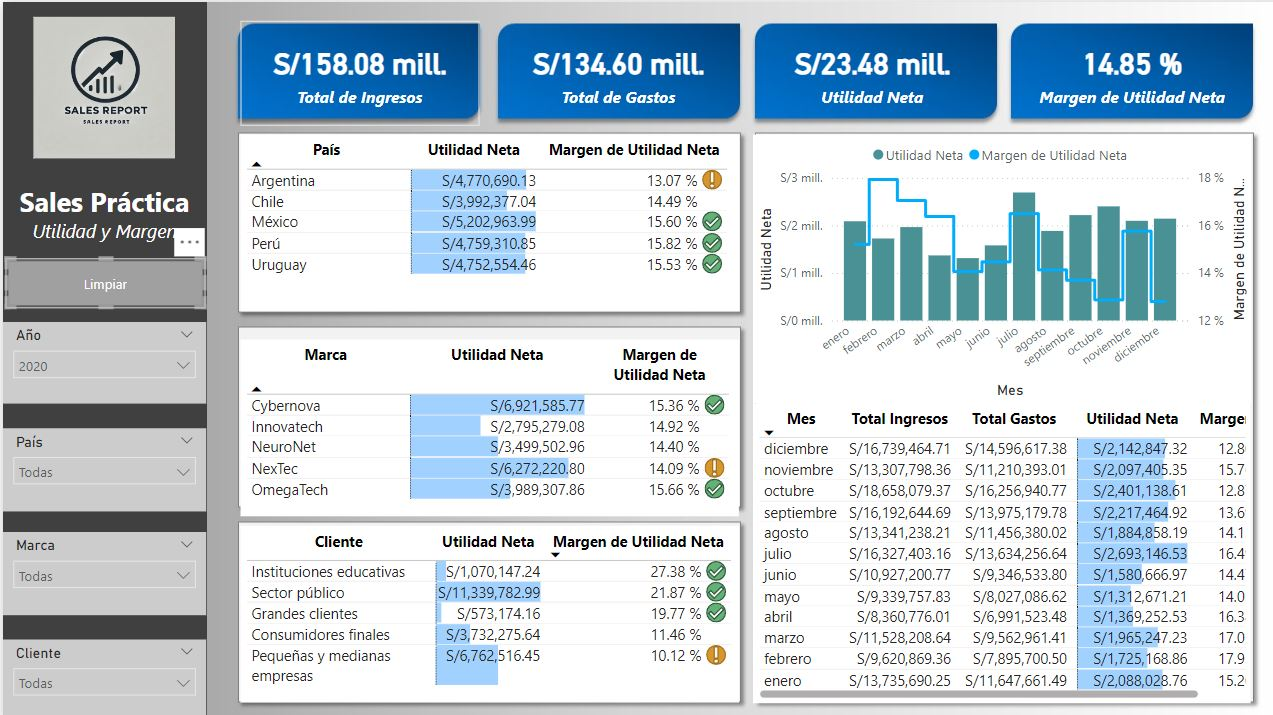

The page's visual inventory and layout, read from the dashboard file:
{"tool":"powerbi","page":{"name":"Página 1","canvas":[1280,720],"ordinal":0},"visuals":[{"type":"card","fields":{"Values":["_Medidas.Total de Ingresos"]},"box":[237.4,19.2,238.8,104.3],"z":0},{"type":"card","fields":{"Values":["_Medidas.Total de Gastos"]},"box":[496.7,19.2,238.8,104.3],"z":1000},{"type":"card","fields":{"Values":["_Medidas.Total de Beneficio"]},"box":[750.6,19.2,238.8,104.3],"z":2000},{"type":"card","fields":{"Values":["_Medidas.Margen de utilidad neta"]},"box":[1010,19.2,238.8,104.3],"z":3000},{"type":"tableEx","fields":{"Values":["Consolidado.DimPais.Pais","_Medidas.Utilidad Neta","_Medidas.Margen de Utilidad Neta"]},"box":[237.4,133.1,498.1,177],"z":4000},{"type":"tableEx","fields":{"Values":["Consolidado.DimMarca.Marca","_Medidas.Utilidad Neta","_Medidas.Margen de Utilidad Neta"]},"box":[237.4,337.6,498.1,177],"z":5000},{"type":"tableEx","fields":{"Values":["Consolidado.Cliente","_Medidas.Utilidad Neta","_Medidas.Margen de Utilidad Neta"]},"box":[237.4,524.2,498.1,177],"z":6000},{"type":"lineClusteredColumnComboChart","fields":{"Y":["_Medidas.Utilidad Neta"],"Category":["Consolidado.Fecha.Variación.Jerarquía de fechas.Mes"],"Y2":["_Medidas.Margen de Utilidad Neta"]},"box":[750,132.5,498.8,268.8],"z":7000},{"type":"tableEx","fields":{"Values":["Consolidado.Fecha.Variación.Jerarquía de fechas.Mes","_Medidas.Total de Ingresos","_Medidas.Total de Gastos","_Medidas.Utilidad Neta","_Medidas.Margen de Utilidad Neta"]},"box":[750,401.2,497.5,300],"z":8000},{"type":"image","box":[0,10,202.9,151.4],"z":9000},{"type":"textbox","box":[0,175.7,202.9,80],"z":10000},{"type":"slicer","fields":{"Values":["Consolidado.Fecha.Variación.Jerarquía de fechas.Año"]},"box":[0,320,202.9,81.4],"z":10001},{"type":"slicer","fields":{"Values":["Consolidado.Cliente"]},"box":[0,637.1,202.9,82.9],"z":10002},{"type":"slicer","fields":{"Values":["Consolidado.País"]},"box":[0,425.7,202.9,82.9],"z":10003},{"type":"slicer","fields":{"Values":["Consolidado.Marca"]},"box":[0,530,202.9,82.9],"z":10004},{"type":"actionButton","box":[2.9,255.7,200,50],"z":10005}]}

Visuals, with their boxes on the page's 1280x720 design canvas (x1, y1, x2, y2). These are canvas units, not pixel positions in the 1273x715 screenshot, which may show the page scaled, cropped or inside an application window:
card - _Medidas.Total de Ingresos: {"left": 237, "top": 19, "right": 476, "bottom": 124}
card - _Medidas.Total de Gastos: {"left": 497, "top": 19, "right": 736, "bottom": 124}
card - _Medidas.Total de Beneficio: {"left": 751, "top": 19, "right": 989, "bottom": 124}
card - _Medidas.Margen de utilidad neta: {"left": 1010, "top": 19, "right": 1249, "bottom": 124}
tableEx - Consolidado.DimPais.Pais x _Medidas.Utilidad Neta: {"left": 237, "top": 133, "right": 736, "bottom": 310}
tableEx - Consolidado.DimMarca.Marca x _Medidas.Utilidad Neta: {"left": 237, "top": 338, "right": 736, "bottom": 515}
tableEx - Consolidado.Cliente x _Medidas.Utilidad Neta: {"left": 237, "top": 524, "right": 736, "bottom": 701}
lineClusteredColumnComboChart - _Medidas.Utilidad Neta x Consolidado.Fecha.Variación.Jerarquía de fechas.Mes: {"left": 750, "top": 132, "right": 1249, "bottom": 401}
tableEx - Consolidado.Fecha.Variación.Jerarquía de fechas.Mes x _Medidas.Total de Ingresos: {"left": 750, "top": 401, "right": 1248, "bottom": 701}
image: {"left": 0, "top": 10, "right": 203, "bottom": 161}
textbox: {"left": 0, "top": 176, "right": 203, "bottom": 256}
slicer - Consolidado.Fecha.Variación.Jerarquía de fechas.Año: {"left": 0, "top": 320, "right": 203, "bottom": 401}
slicer - Consolidado.Cliente: {"left": 0, "top": 637, "right": 203, "bottom": 720}
slicer - Consolidado.País: {"left": 0, "top": 426, "right": 203, "bottom": 509}
slicer - Consolidado.Marca: {"left": 0, "top": 530, "right": 203, "bottom": 613}
actionButton: {"left": 3, "top": 256, "right": 203, "bottom": 306}
